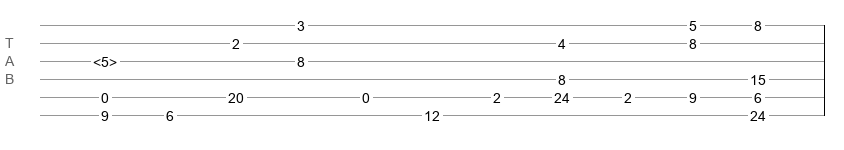0: (101, 90, 109, 100), (362, 90, 370, 100)
12: (424, 108, 440, 118)
15: (750, 72, 766, 82)
2: (232, 36, 240, 46), (493, 90, 501, 100), (624, 90, 632, 100)
20: (228, 90, 244, 100)
24: (554, 90, 570, 100), (750, 108, 766, 118)
3: (297, 18, 305, 28)
4: (558, 36, 566, 46)
5: (689, 18, 697, 28)
6: (166, 108, 174, 118), (754, 90, 762, 100)
8: (297, 54, 305, 64), (558, 72, 566, 82), (689, 36, 697, 46), (754, 18, 762, 28)
9: (101, 108, 109, 118), (689, 90, 697, 100)
harmonic: (93, 54, 117, 64)
